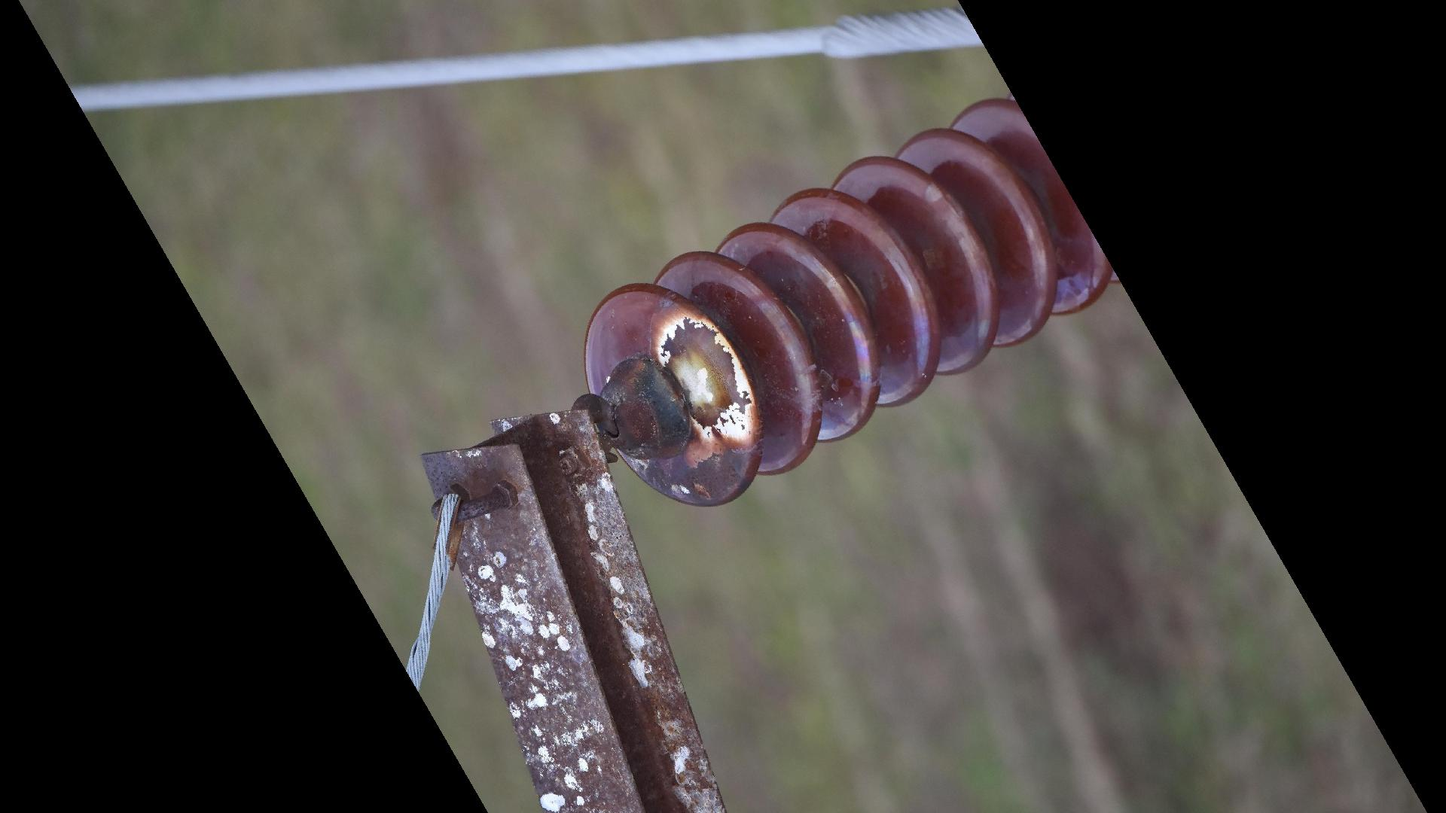insulator: (575, 91, 1122, 513)
insulator_flashover: (650, 299, 763, 444)
